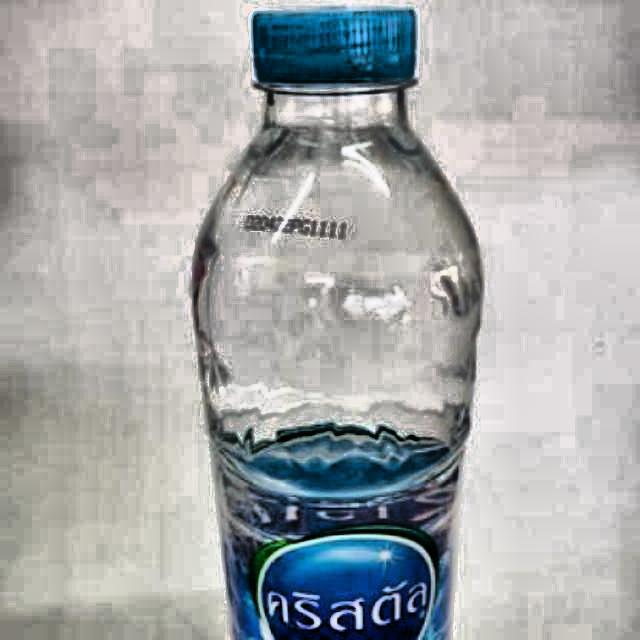Bottles: (187, 4, 488, 640)
